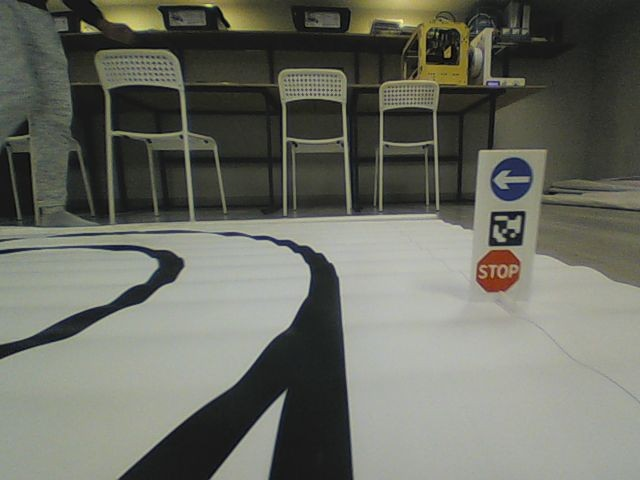Stop: (474, 248, 523, 294)
